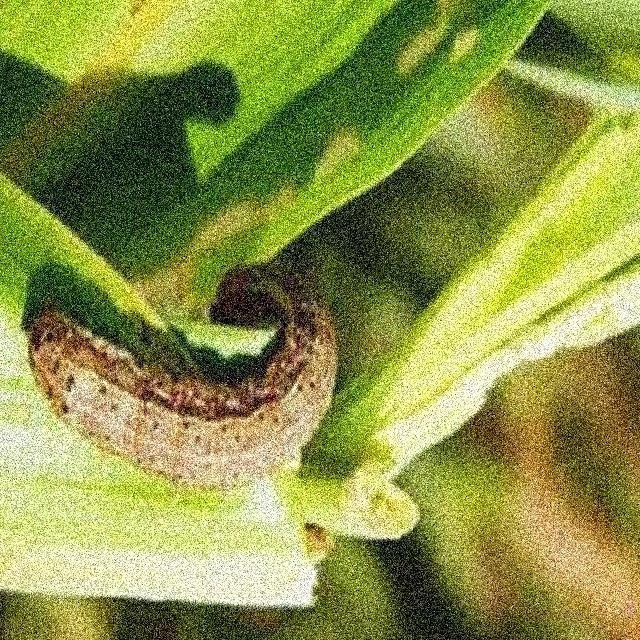gusano_cogollero: (11, 256, 340, 488)
